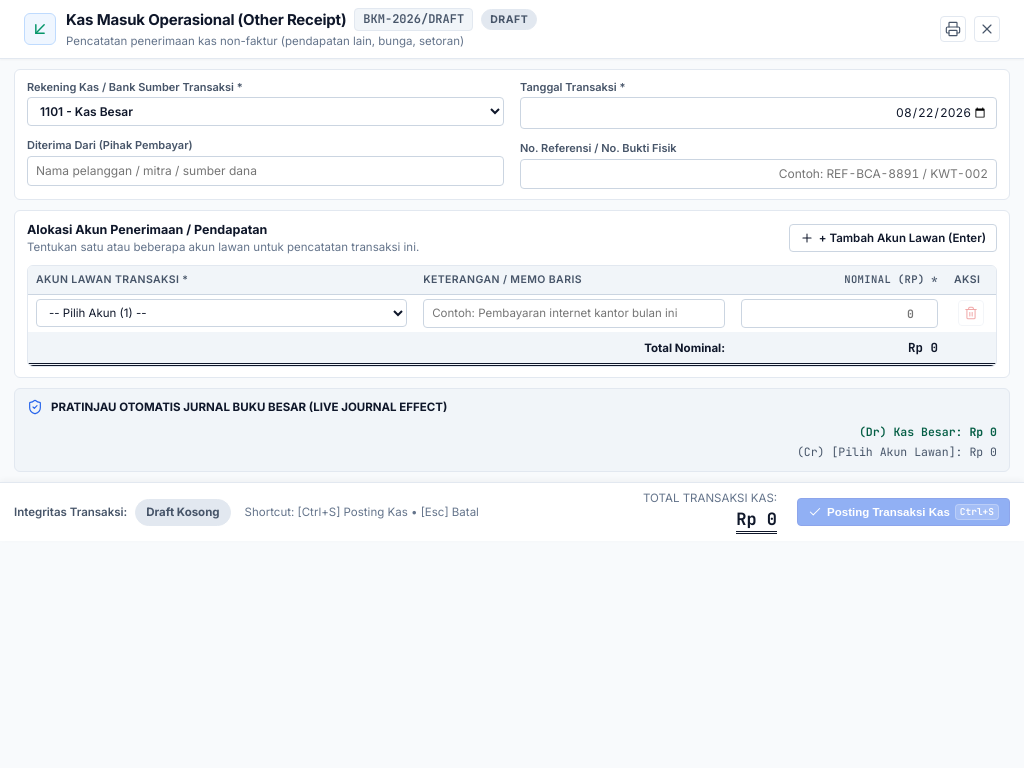
Test: CashEntryForm › rejects a negative nominal with a clear error (F-14)
Check: the heading "Kas Masuk Operasional (Other Receipt)" is shown, box top-left (66, 9), bottom-right (346, 31)
Select "4101 - Pendapatan Jasa (REVENUE)" in the dropdown below "Akun Lawan Transaksi *" at (222, 313), box top-left (36, 299), bottom-right (407, 327)
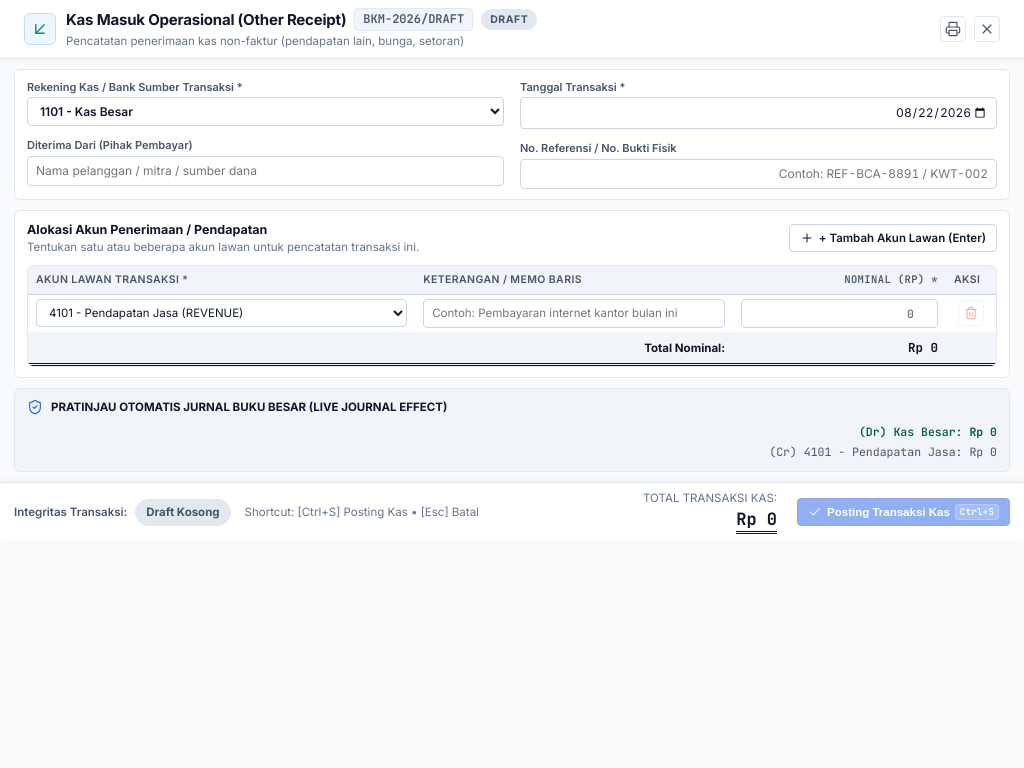
Type "-5000" into the number field with placeholder "0" at (840, 313), box top-left (741, 299), bottom-right (938, 328)
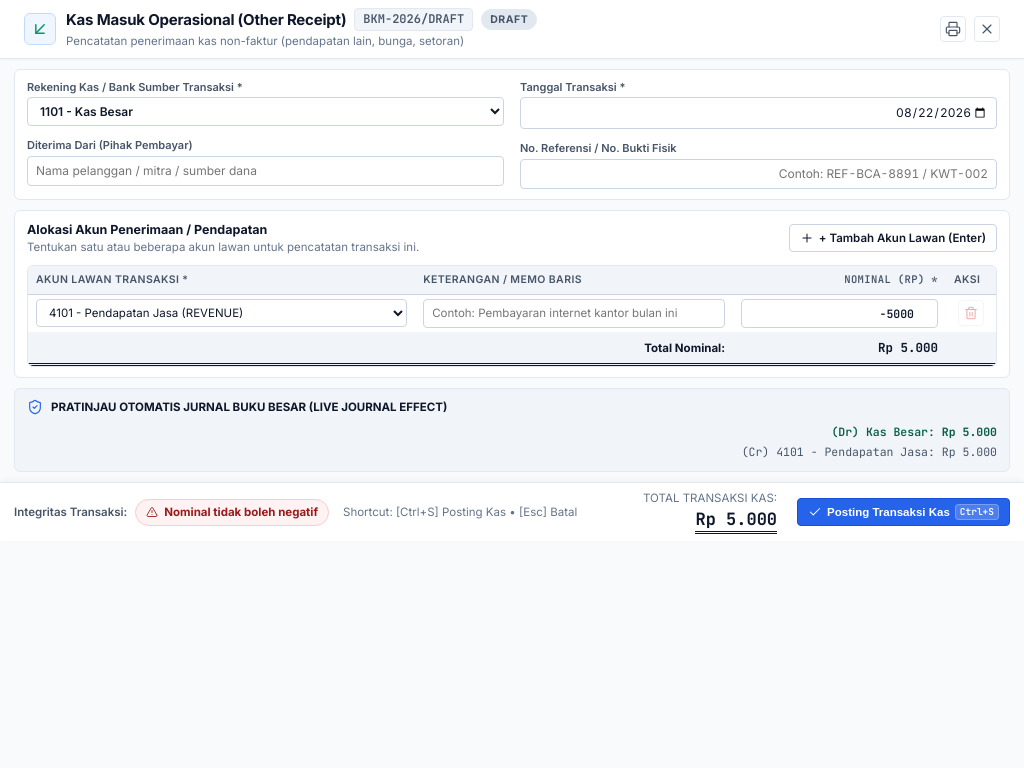
Click the button "Posting Transaksi Kas Ctrl+S" at (904, 512), box top-left (797, 498), bottom-right (1010, 526)
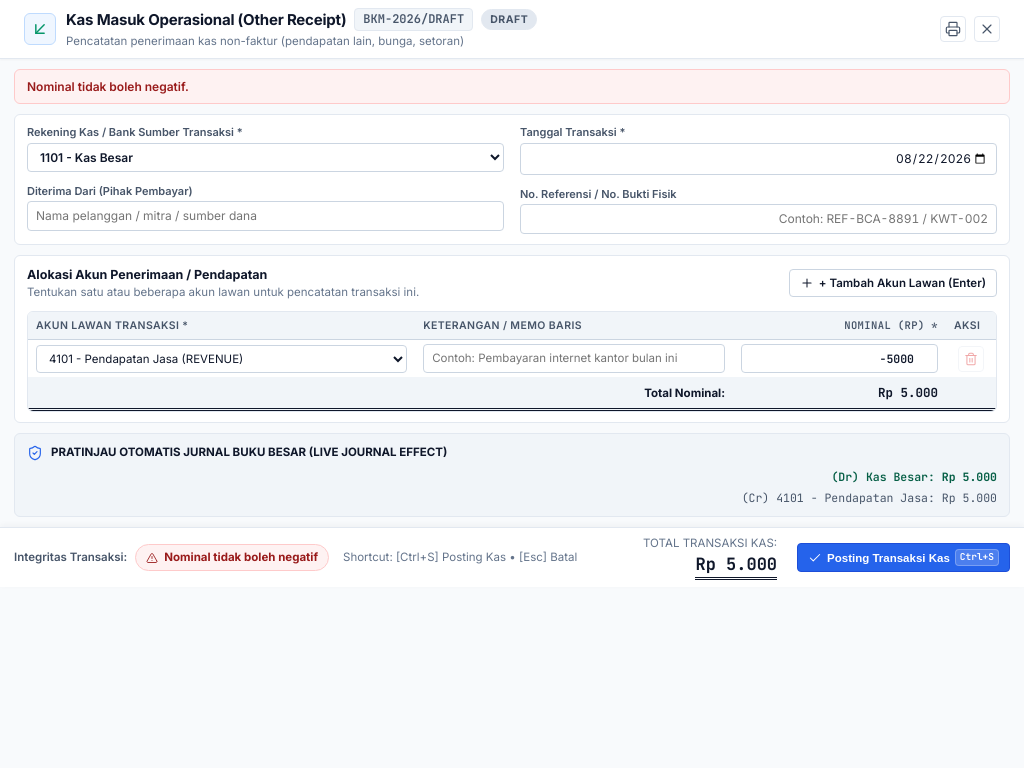
Check: the text "Nominal tidak boleh negatif." is shown, box top-left (14, 69), bottom-right (1010, 104)
